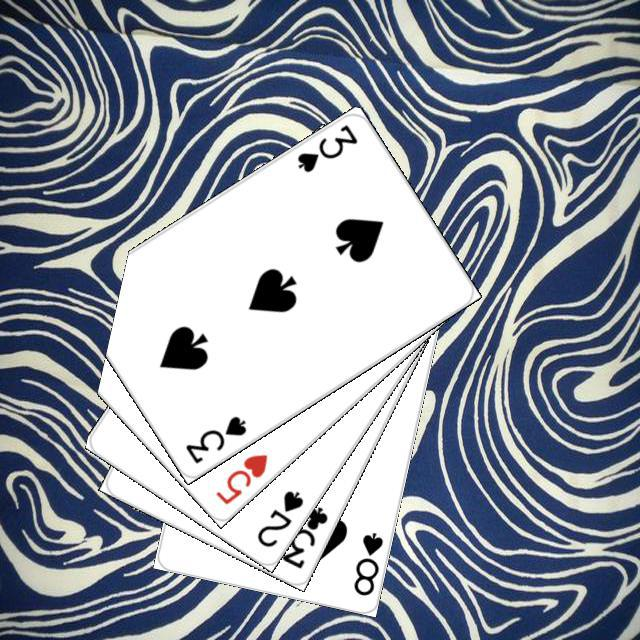2s: (252, 485, 306, 549)
3c: (276, 501, 330, 571)
3s: (180, 410, 249, 465), (292, 119, 360, 174)
5h: (210, 448, 270, 506)
8s: (348, 527, 385, 598)
